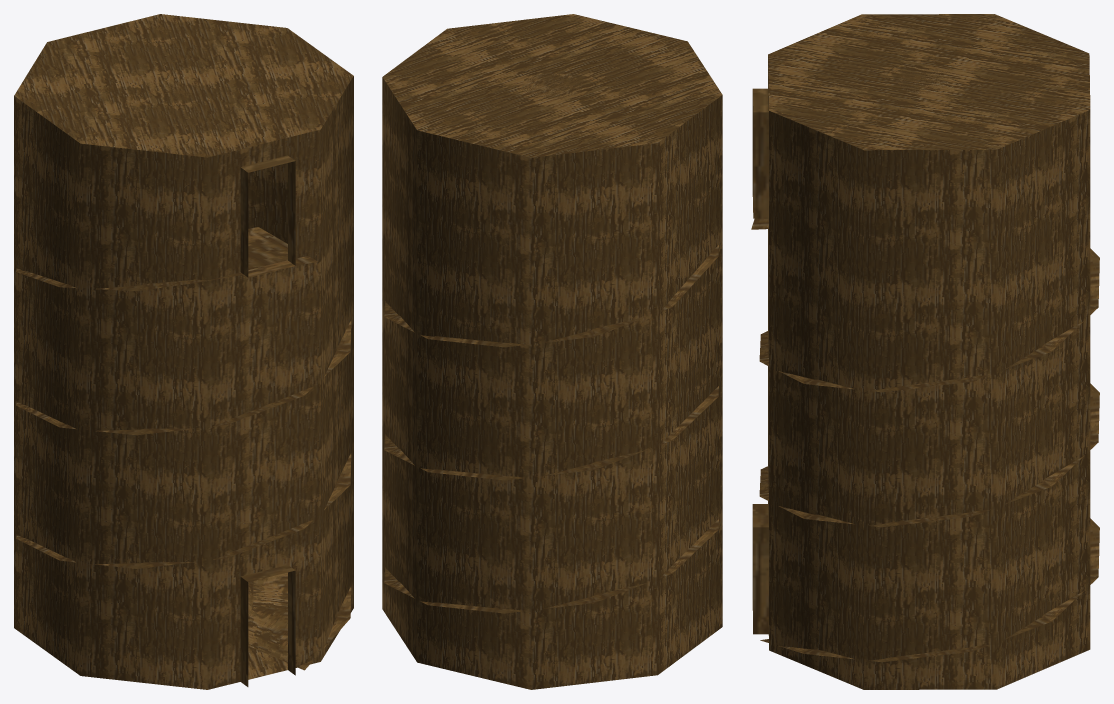
File: SM_TubeRoom_Colider.fbx
The picture shows the model from 3 angles, left to right: view 1: azimuth 30°, elevation 25°; view 2: azimuth 150°, elevation 25°; view 3: azimuth 270°, elevation 25°; orthographic projection.
Parts seen in each view (by area): view 1: SM_TubeRoom_Colider; view 2: SM_TubeRoom_Colider; view 3: SM_TubeRoom_Colider.
Part boxes in pixels (x1=…): SM_TubeRoom_Colider: x1=14, y1=14, x2=353, y2=689; SM_TubeRoom_Colider: x1=382, y1=14, x2=722, y2=689; SM_TubeRoom_Colider: x1=751, y1=14, x2=1099, y2=689.
Size of the model in its own units: 1041 by 1821 by 1066.
